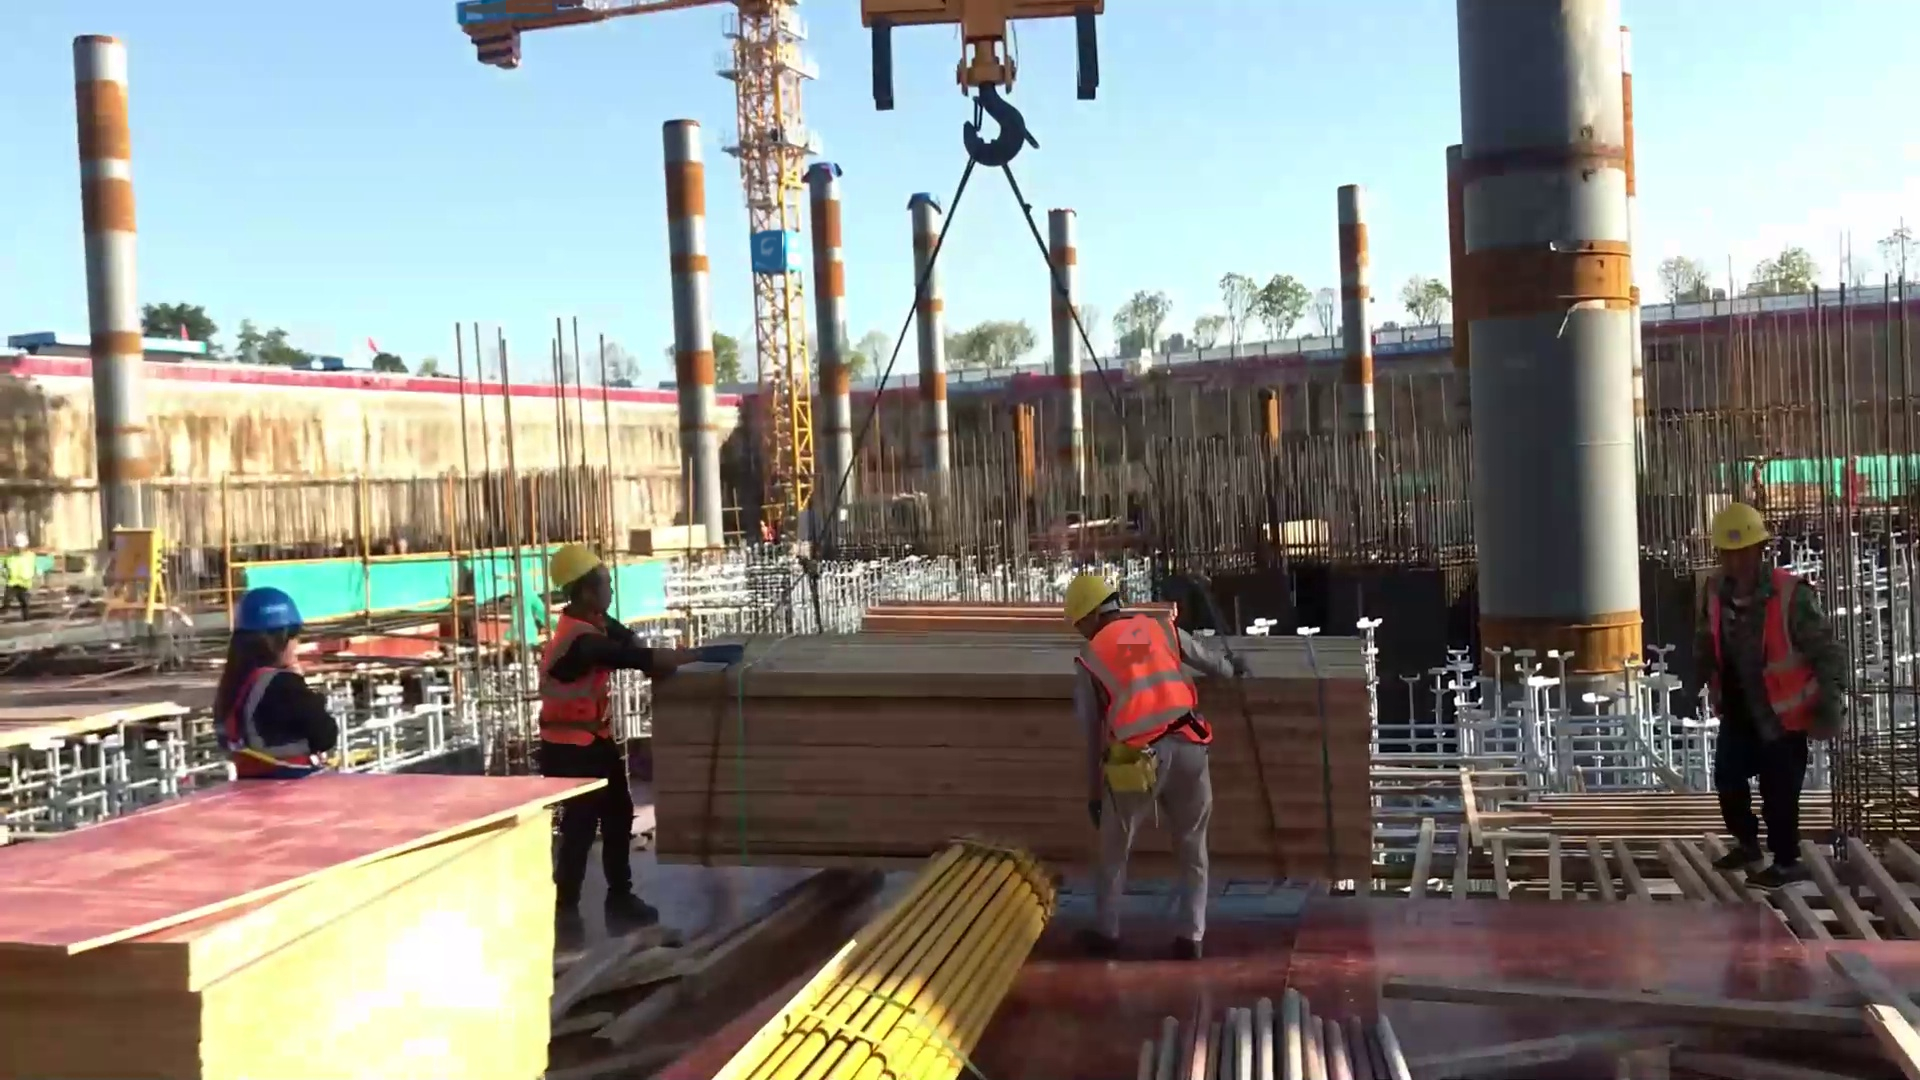board: (1, 764, 624, 1075)
helmet: (1688, 481, 1782, 556), (227, 576, 325, 642), (529, 530, 612, 591), (1054, 562, 1125, 623)
person: (1015, 542, 1266, 983), (1678, 489, 1850, 885), (529, 542, 692, 929), (200, 588, 340, 780)
vest: (1694, 564, 1850, 737), (1075, 601, 1225, 746), (523, 601, 650, 739), (211, 660, 331, 780)
wood: (628, 610, 1371, 892)
